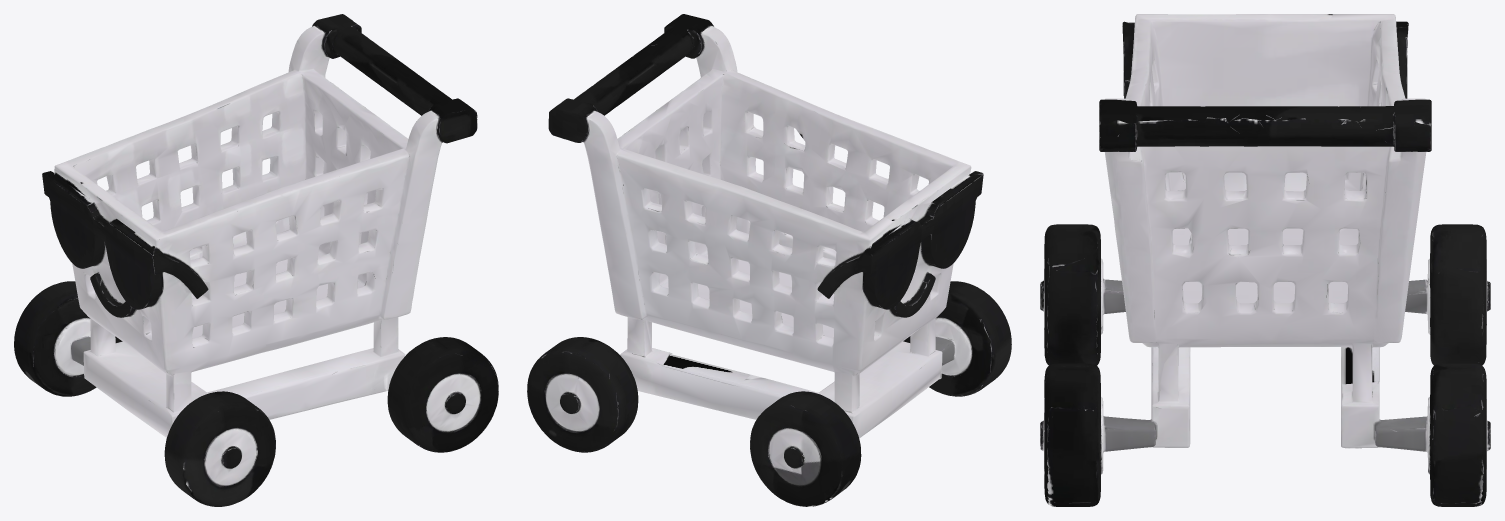
Rendered from cart-clash-base-draco.glb.
3 views of the same model, side by side, from view 1: azimuth 30°, elevation 25°; view 2: azimuth 150°, elevation 25°; view 3: azimuth 270°, elevation 25° (orthographic). The views are drawn at different scales.
Visible parts, largest first — view 1: Mesh1.0; view 2: Mesh1.0; view 3: Mesh1.0.
Part boxes in pixels (x1,y1,x2,y2): Mesh1.0: [14, 14, 498, 506]; Mesh1.0: [527, 14, 1011, 506]; Mesh1.0: [1040, 14, 1490, 506].
Size of the model in its own units: 1.91 by 1.84 by 1.83.
Materials: 1 (1 with a texture image).
